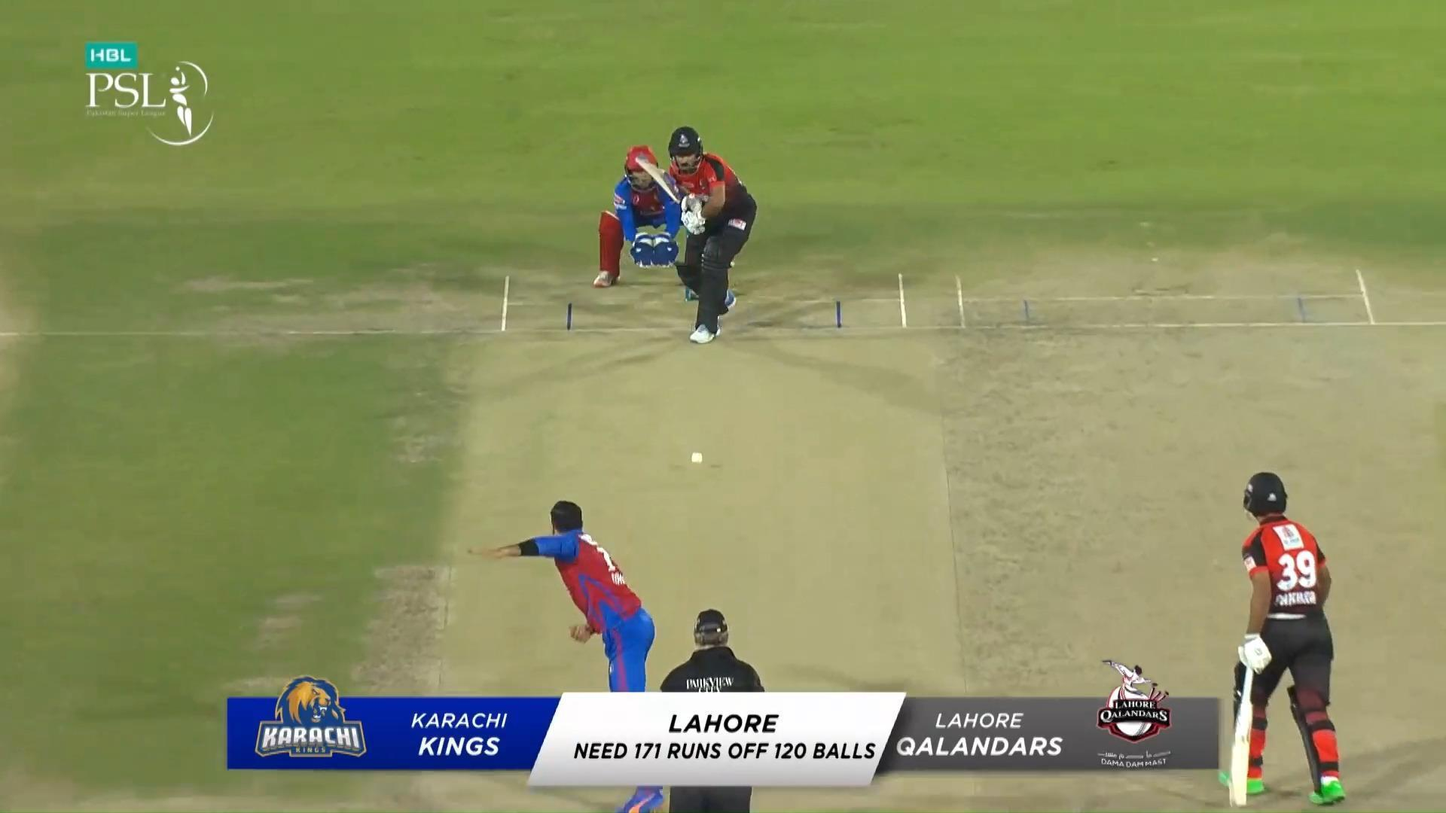BM 1: (635, 125, 757, 344)
BO: (485, 496, 664, 811)
